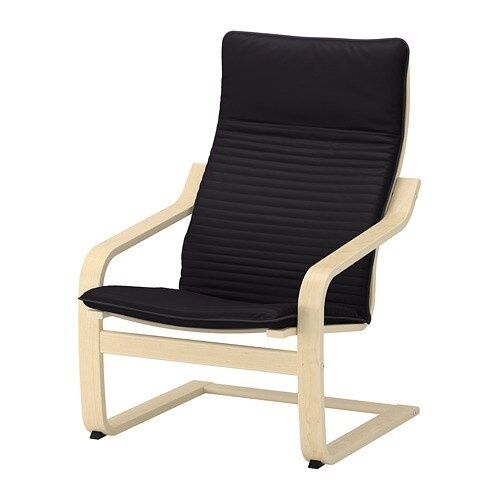obstacle: (79, 32, 419, 467)
